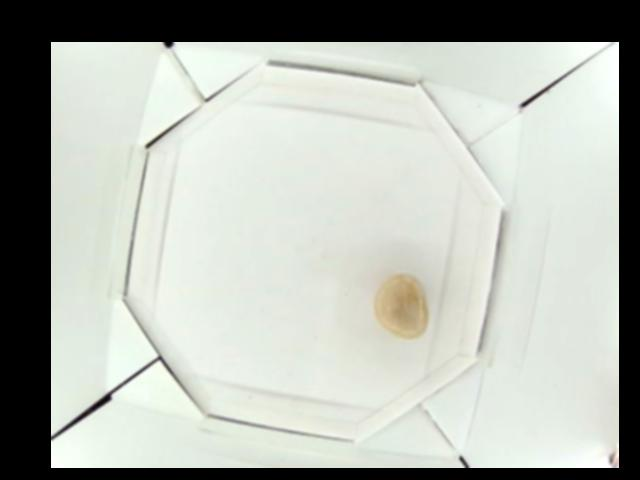Pebble: (374, 273, 428, 342)
